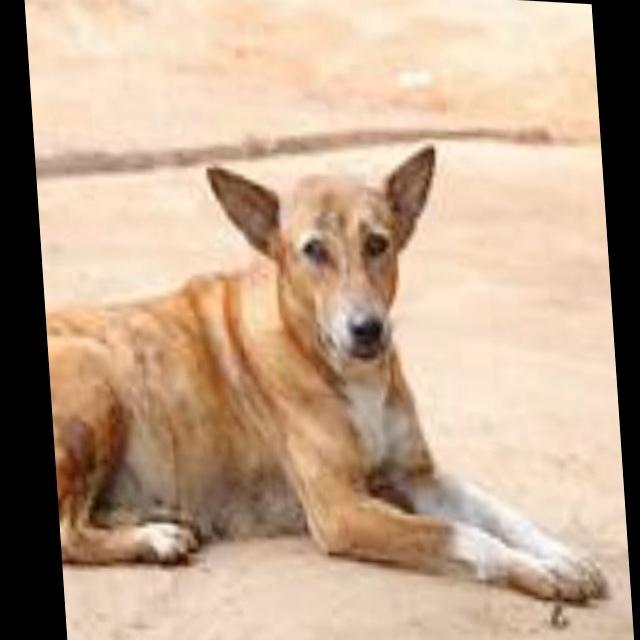dog: (32, 123, 614, 640)
